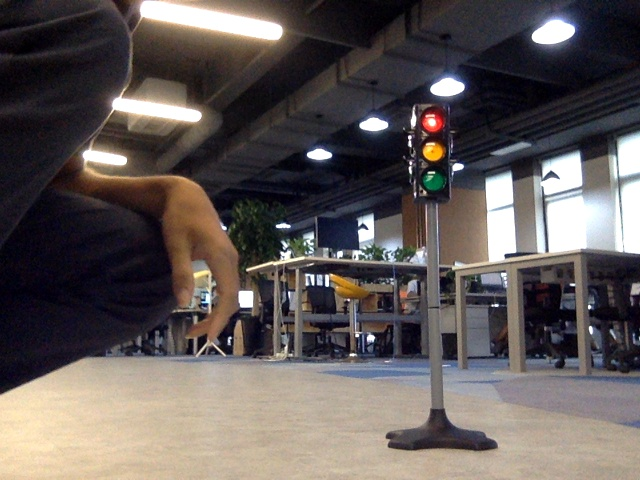red: (414, 108, 444, 195)
